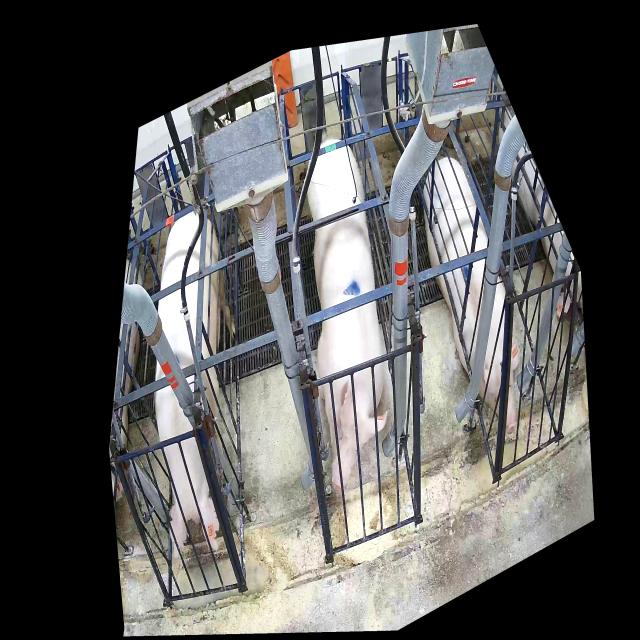pig: (307, 139, 387, 493), (155, 212, 235, 565), (424, 156, 520, 432)
